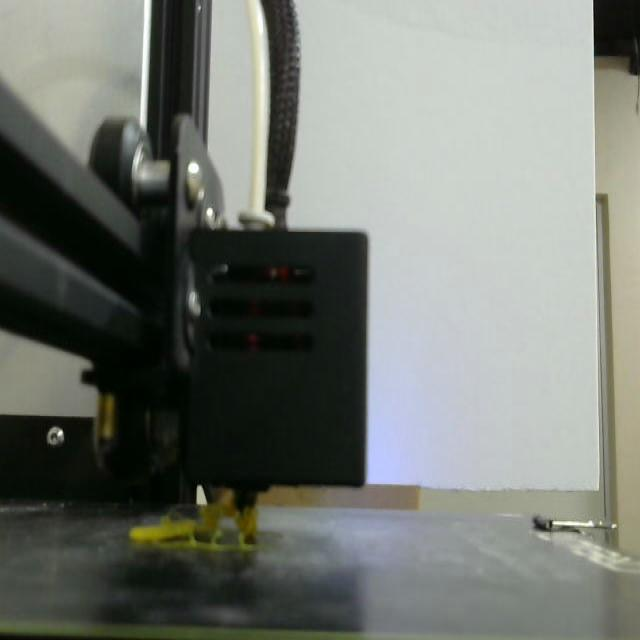spaghetti: (129, 488, 258, 551)
